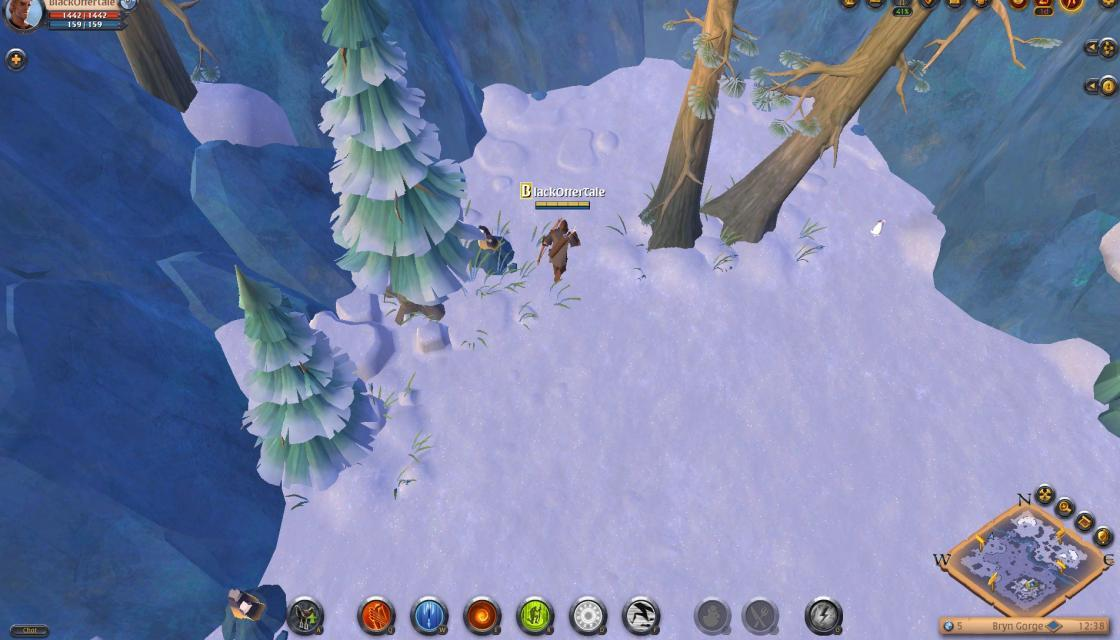copperore: (212, 578, 294, 636), (460, 220, 518, 279)
